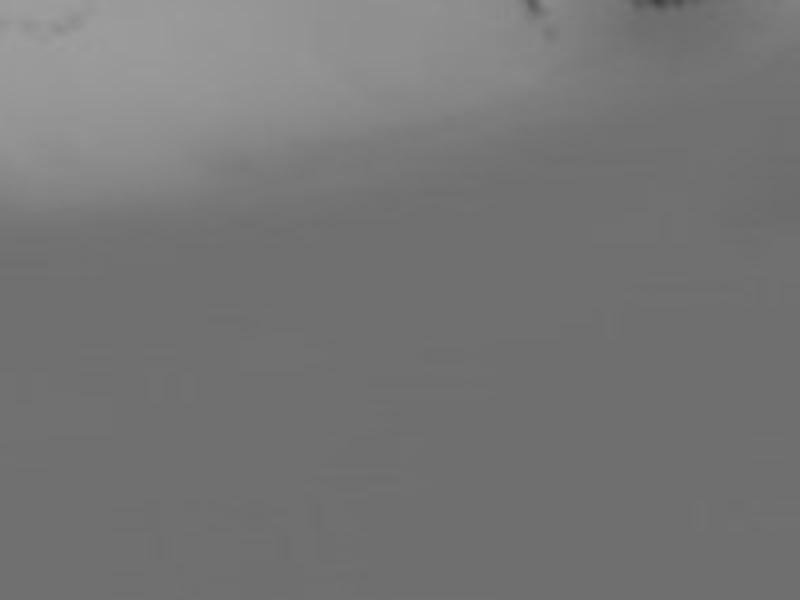defect: (543, 23, 561, 41), (526, 1, 543, 17), (654, 1, 666, 11), (632, 1, 643, 11), (675, 1, 686, 10)
